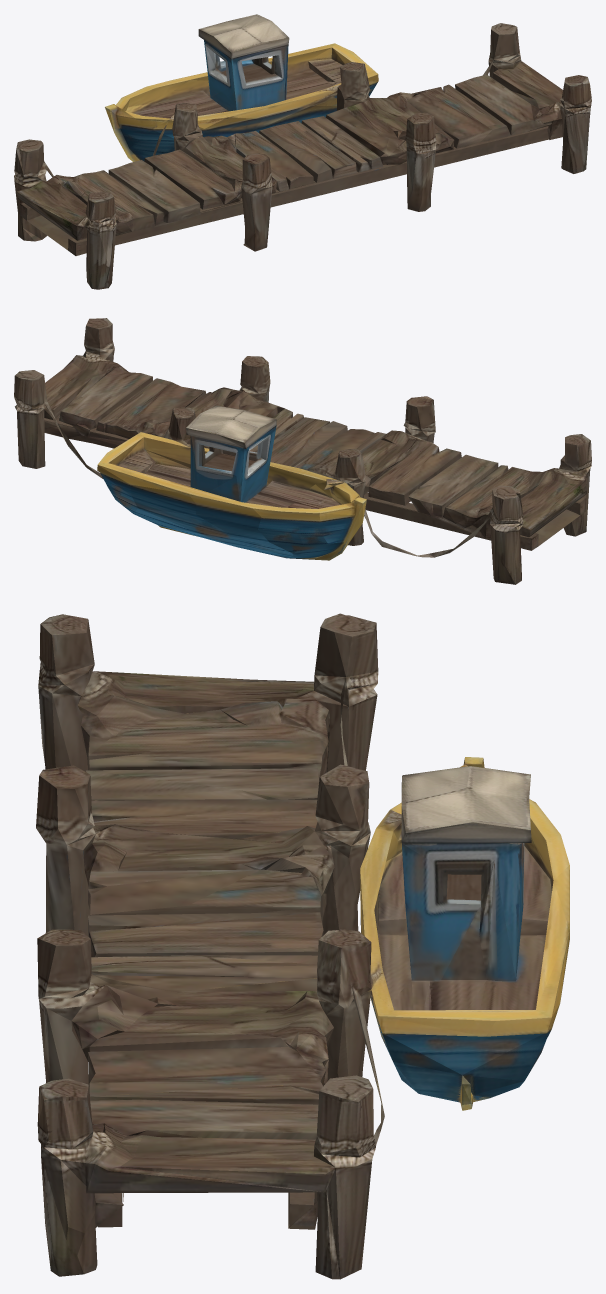
Rendered from meshy.glb.
3 renders of one model, top to bottom at view 1: azimuth 30°, elevation 25°; view 2: azimuth 150°, elevation 25°; view 3: azimuth 270°, elevation 25°, orthographic. The views are drawn at different scales.
Size of the model in its own units: 1.9 by 0.4447 by 0.8548.
Materials: 1 (1 with a texture image).
